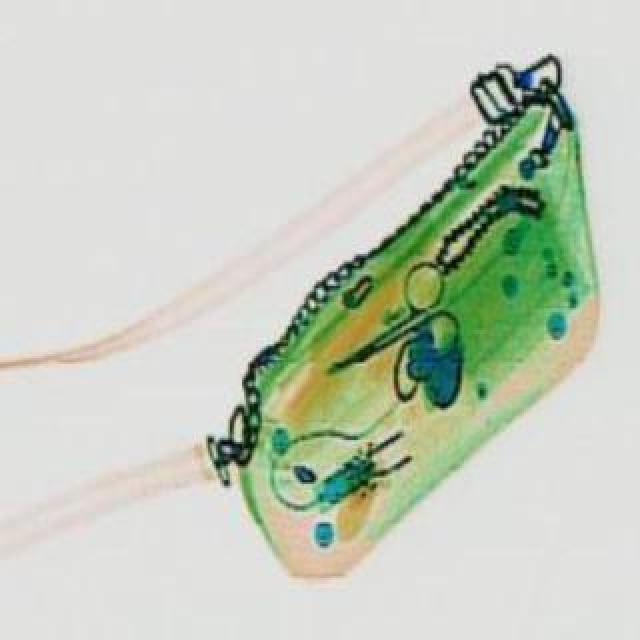pliers: (300, 250, 484, 402)
